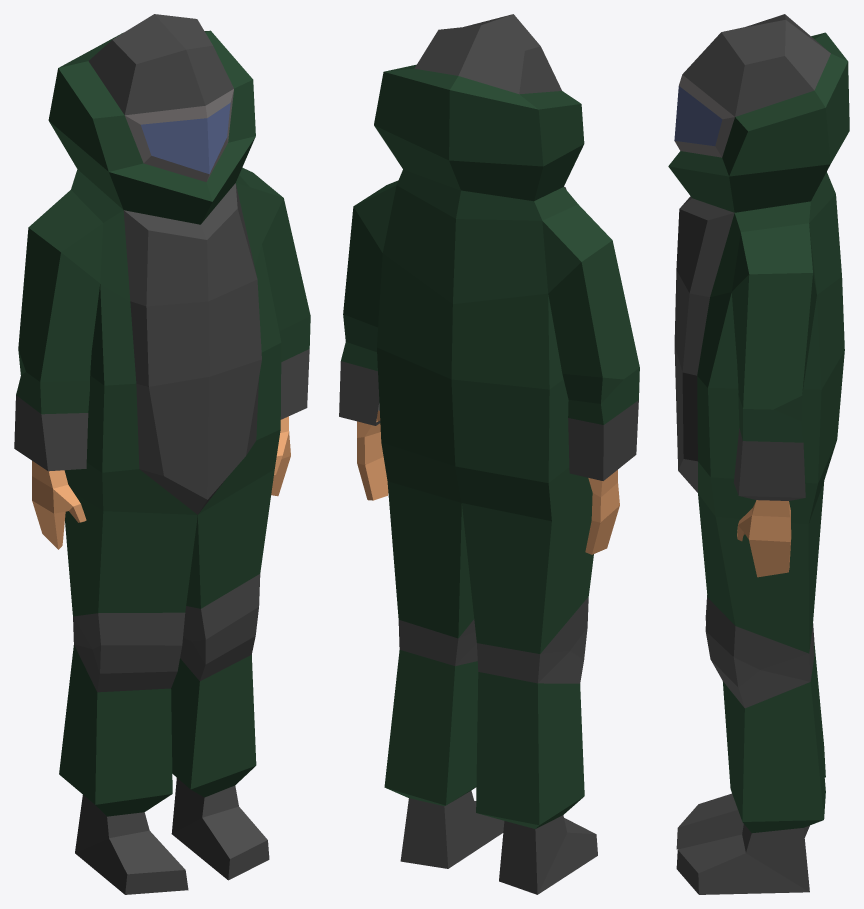
The model's file is man-EOD.fbx.
3 views of the same model, side by side, from view 1: azimuth 30°, elevation 25°; view 2: azimuth 150°, elevation 25°; view 3: azimuth 270°, elevation 25° (orthographic).
Visible parts, largest first — view 1: man-EOD; view 2: man-EOD; view 3: man-EOD.
Part boxes in pixels (x1,y1,x2,y2): man-EOD: (14, 14, 310, 894); man-EOD: (339, 14, 639, 894); man-EOD: (668, 14, 849, 894).
Bounding box in the file's own units: 0.6403 × 1.88 × 0.369.
